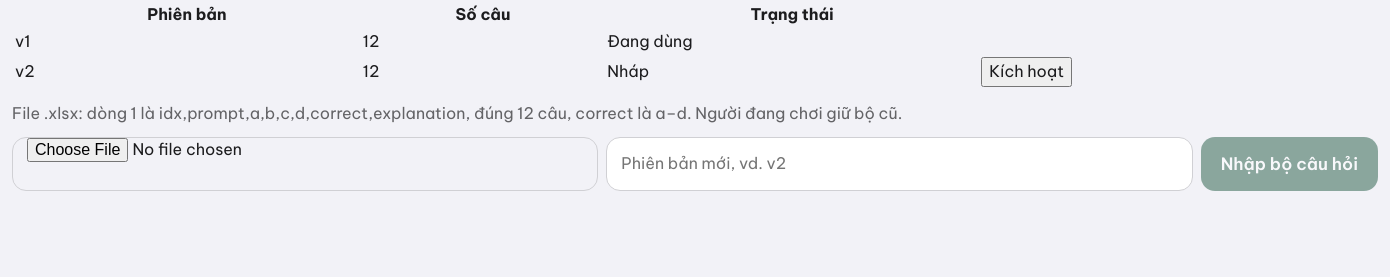
Test case: activate needs a confirm step
Click the button "Kích hoạt" at (1027, 72), box 981,57 -> 1072,87
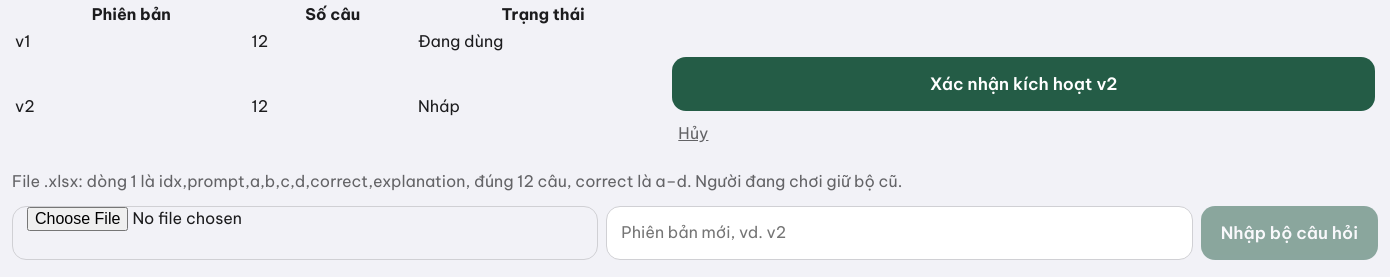
Click the button "Xác nhận kích hoạt v2" at (1024, 84), box 672,57 -> 1375,111
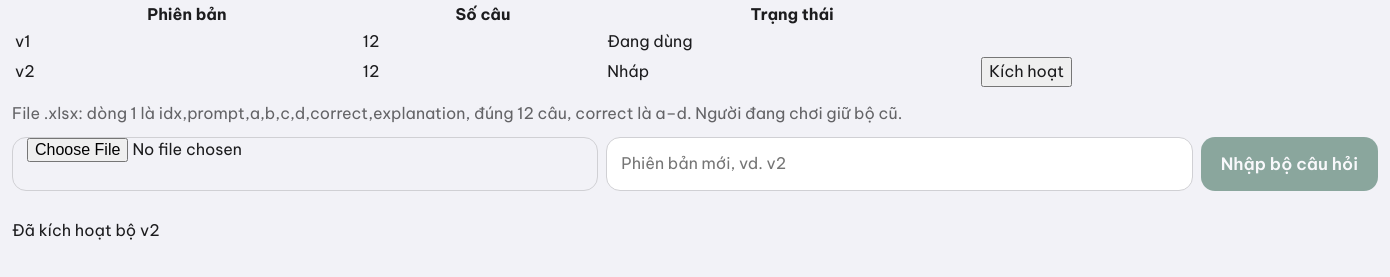
Result: the text "Đã kích hoạt bộ v2" is shown at 12,220 -> 160,240
